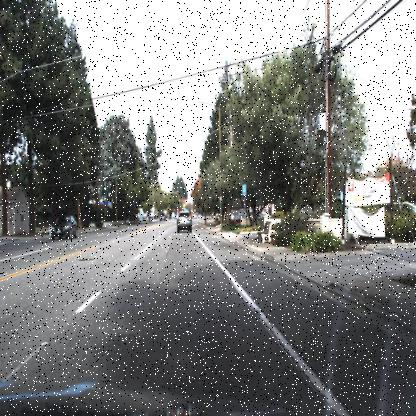car: (46, 213, 79, 241), (175, 207, 195, 235)
